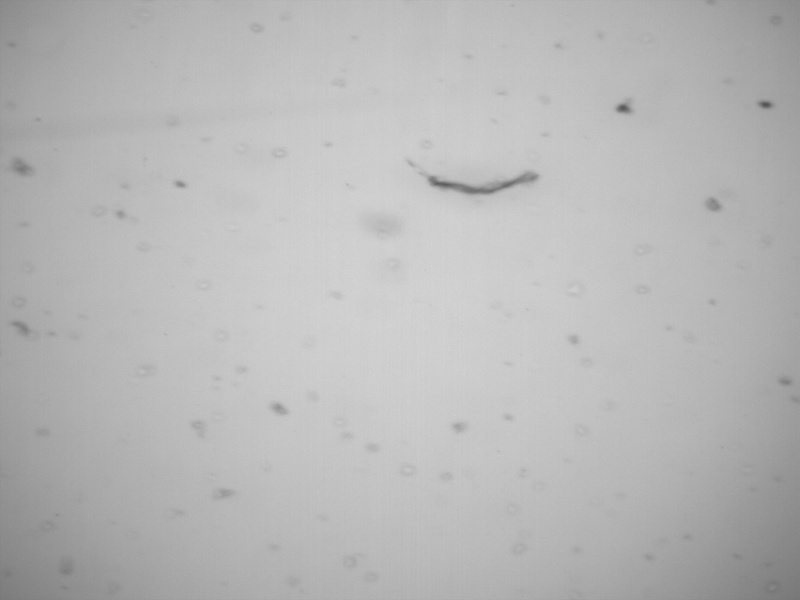fiber: (401, 154, 541, 196)
